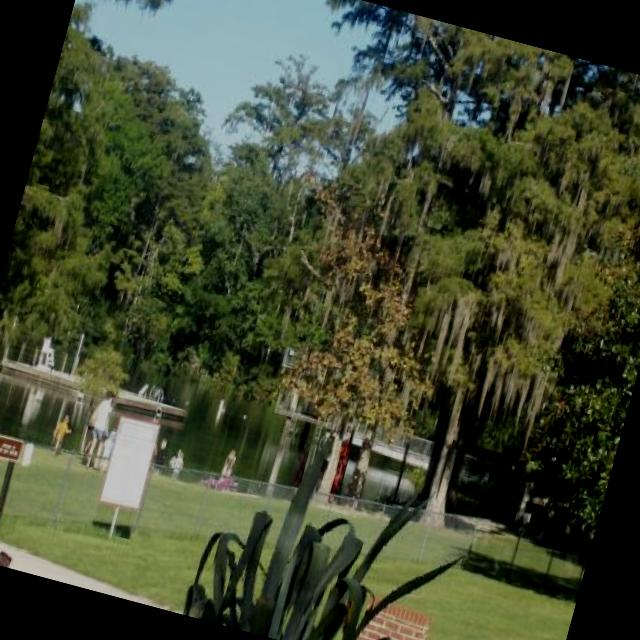Person: (0, 429, 24, 560), (82, 390, 118, 470), (80, 391, 112, 464), (50, 409, 75, 454), (290, 439, 312, 488), (150, 436, 170, 474), (218, 446, 240, 480), (100, 427, 118, 468), (167, 447, 187, 478)
